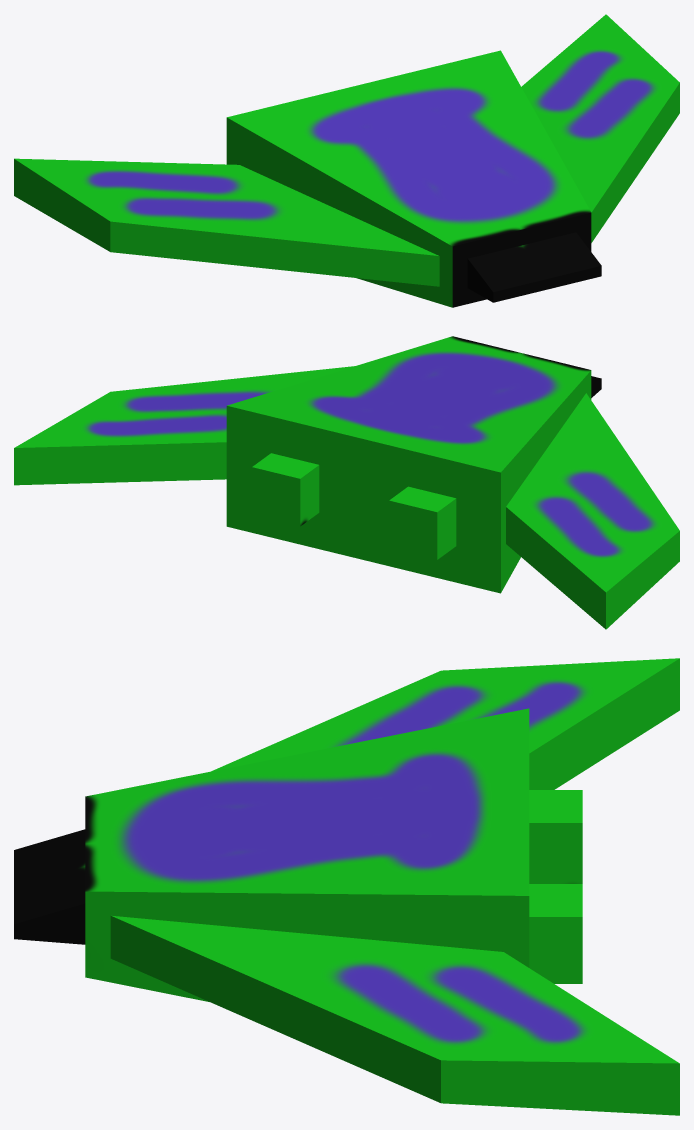
File: spaceship.glb
The picture shows the model from 3 angles, top to bottom: view 1: azimuth 30°, elevation 25°; view 2: azimuth 150°, elevation 25°; view 3: azimuth 270°, elevation 25°; orthographic projection. The views are drawn at different scales.
Parts seen in each view (by area): view 1: Spaceship; view 2: Spaceship; view 3: Spaceship.
Boxes of the visible parts, box(x1,y1,x2,y2) form: Spaceship: box(14, 14, 679, 307); Spaceship: box(14, 336, 679, 629); Spaceship: box(14, 658, 679, 1115).
Size of the model in its own units: 4.32 by 0.8434 by 3.
Materials: 1 (1 with a texture image).
